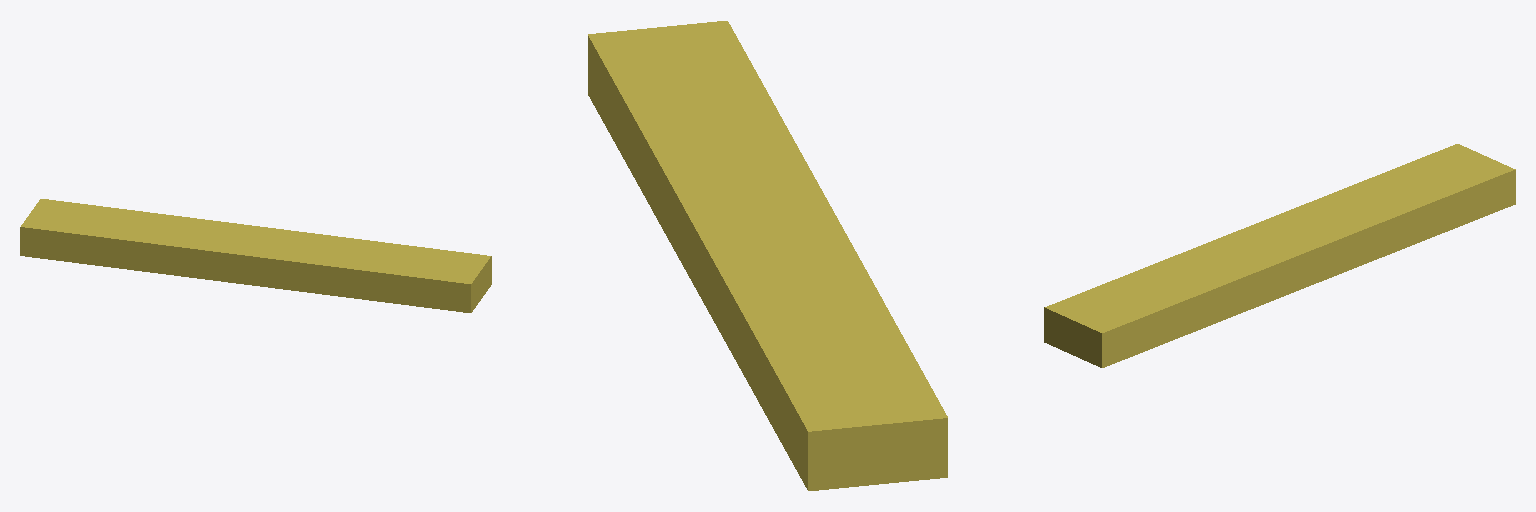
URDF robot description (Interference):
<?xml version="1.0"?>
<robot name="Interference">
  <link name="baseLink">
    <inertial>
      <origin xyz="0.0 0.0 0.0" rpy="0.0 0.0 0.0"/>
      <inertia ixx="0.0" ixy="0.0" ixz="0.0" iyy="0.0" iyz="0.0" izz="0.0"/>
      <mass value="0"/>
    </inertial>
    <visual>
      <origin xyz="0.0 0.0 0.0" rpy="0.0 0.0 0.7539751310710243"/>
      <geometry>
        <box size="0.02186338069738946 0.14675278289832538 0.01"/>
      </geometry>
      <material name="color">
        <color rgba="0.7953735431394309 0.7380228599734122 0.3477558512805067 1.0"/>
      </material>
    </visual>
  </link>
</robot>

--- Render facts (derived) ---
3 views of the same robot in one strip: view 1: azimuth 30°, elevation 25°; view 2: azimuth 150°, elevation 25°; view 3: azimuth 270°, elevation 25° (orthographic).
Model Interference with 1 links and 0 joints (none), rooted at baseLink, posed every joint at zero.
Visible links, largest first — view 1: baseLink; view 2: baseLink; view 3: baseLink.
Boxes of the visible links, box(x1,y1,x2,y2) form: baseLink: box(20, 199, 491, 312); baseLink: box(588, 21, 947, 490); baseLink: box(1044, 144, 1515, 367).
Bounding box of the posed robot: 0.1164 × 0.1219 × 0.01 m (x, y, z).
Geometry: primitives only (box / cylinder / sphere), no mesh files.